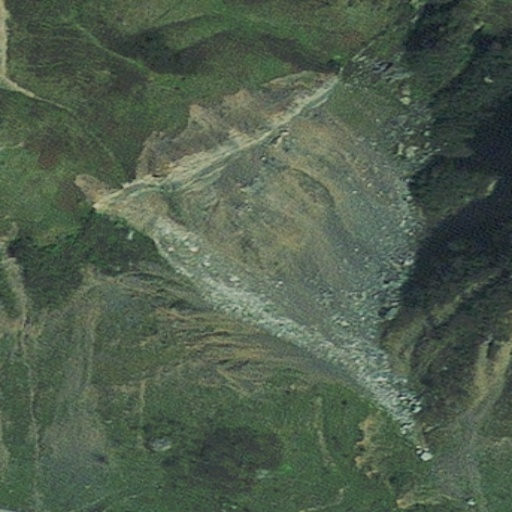landslide: (238, 123, 404, 340)
